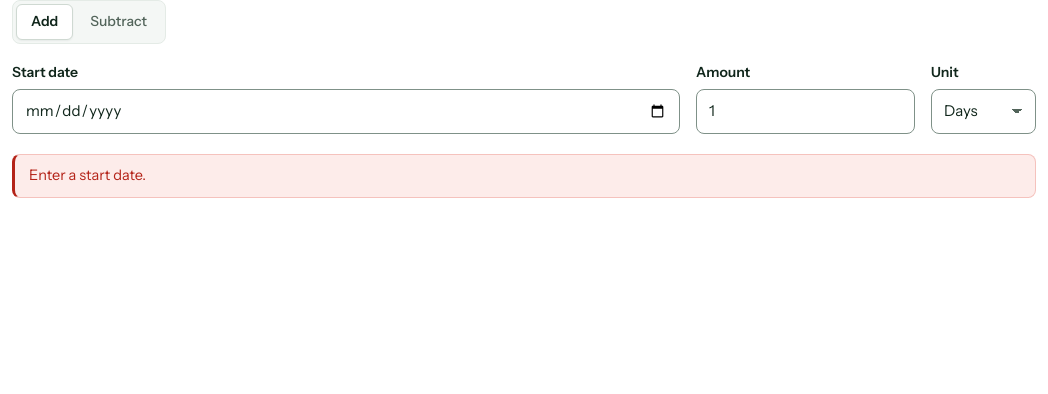
Scenario: DateCalculator › 2020-01-01 + 2 weeks = 2020-01-15
The image size is (1048, 394).
Step 1. Type "2020-01-01" into the date field labelled "Start date" → (346, 112), box [12,89,680,134]
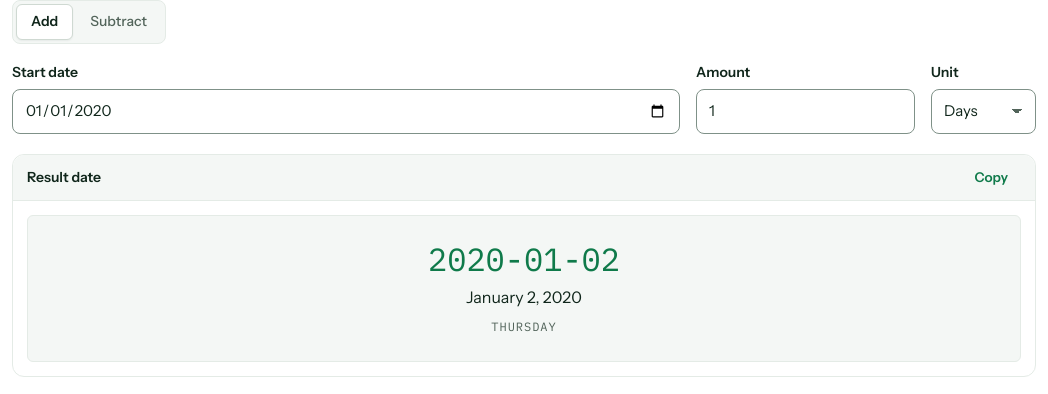
Step 2. Type "2" into the number field with placeholder "1" → (806, 112), box [696,89,915,134]
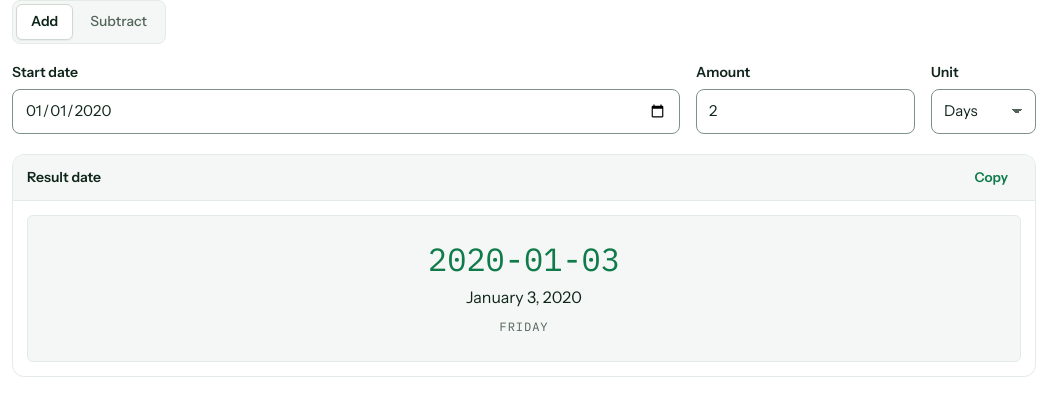
Step 3. Select "Weeks" in the dropdown showing "Days" → (984, 112), box [931,89,1036,134]
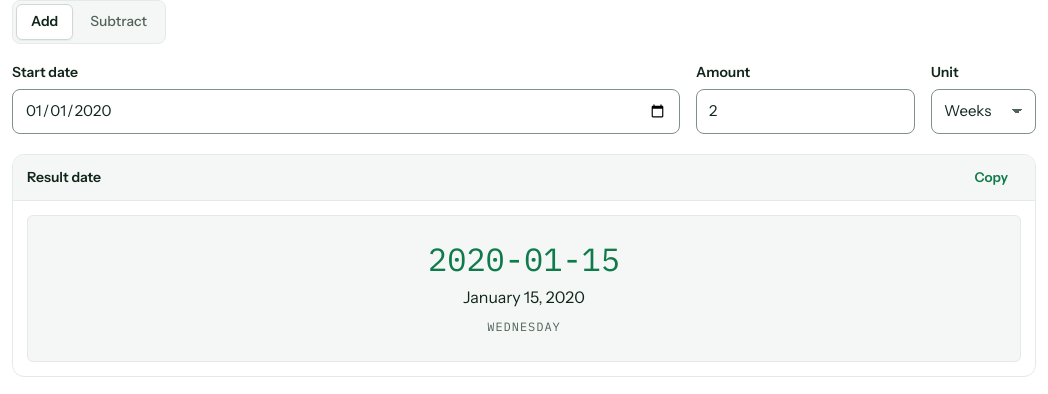
Expected: the text "2020-01-15" is shown, [428,238,620,280]
Expected: the text "Wednesday" is shown, [487,319,561,334]
